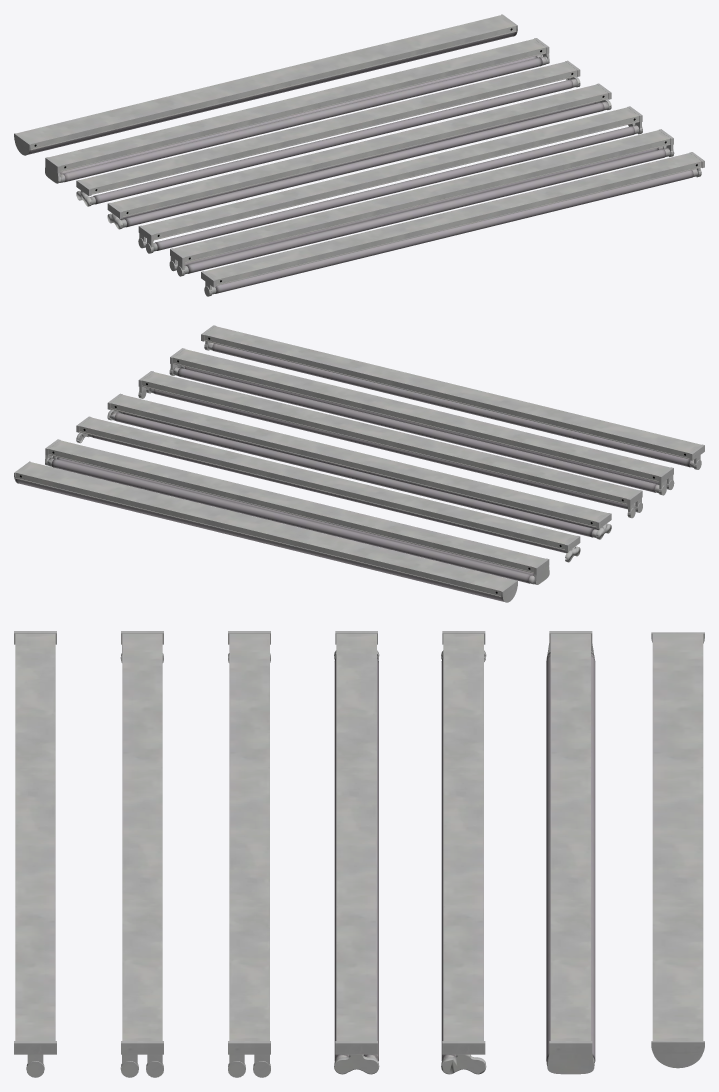
The model's file is fluorescent-light.glb.
The picture shows the model from 3 angles, top to bottom: view 1: azimuth 30°, elevation 25°; view 2: azimuth 150°, elevation 25°; view 3: azimuth 270°, elevation 25°; orthographic projection. The views are drawn at different scales.
Parts seen in each view (by area): view 1: mounted_fluorescent_lights_a; view 2: mounted_fluorescent_lights_a; view 3: mounted_fluorescent_lights_a.
Part boxes in pixels (x1=…): mounted_fluorescent_lights_a: x1=14, y1=14, x2=704, y2=296; mounted_fluorescent_lights_a: x1=14, y1=325, x2=704, y2=602; mounted_fluorescent_lights_a: x1=14, y1=631, x2=704, y2=1077.
Size of the model in its own units: 0.9122 by 0.0354 by 0.6454.
2 materials, 2 textured.
